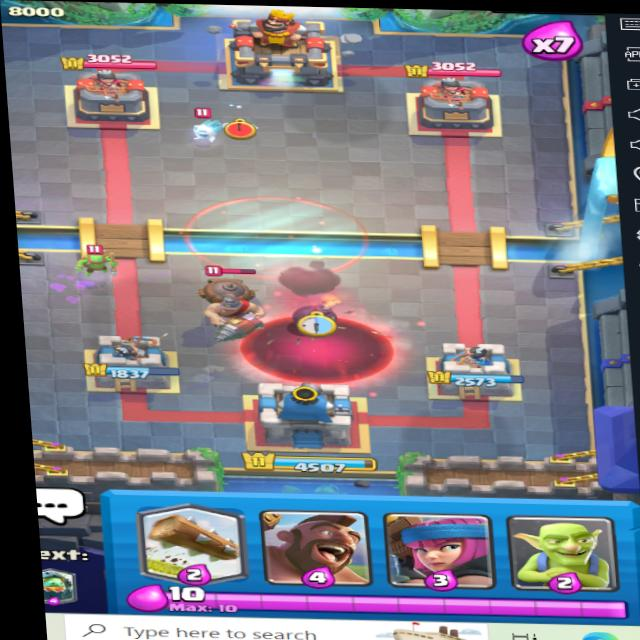Clone: (180, 193, 370, 278)
Icespirit: (187, 111, 234, 149)
Mightyminer: (189, 264, 290, 342)
Speargoblin: (72, 247, 120, 276)
Void: (242, 313, 400, 388)
